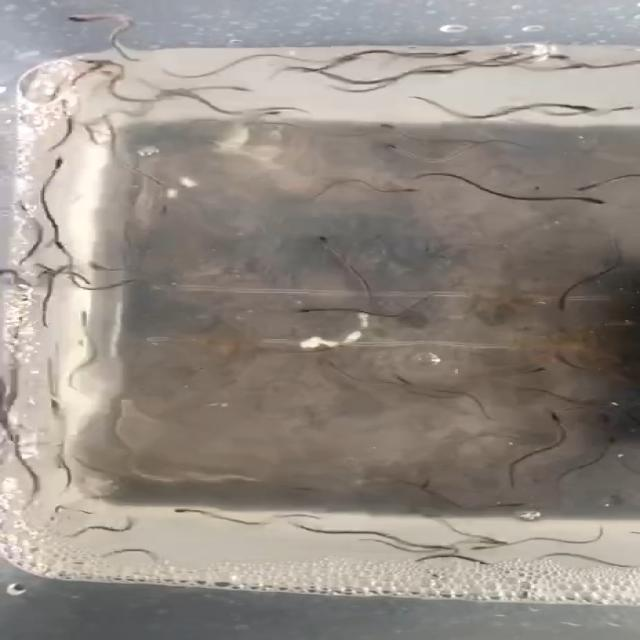inactive_glass_eel: (63, 55, 118, 71), (64, 9, 111, 27), (316, 51, 364, 68), (571, 177, 617, 193), (71, 61, 102, 83), (560, 99, 604, 114), (441, 44, 474, 63), (418, 537, 456, 553), (607, 101, 640, 119), (419, 62, 460, 76), (576, 192, 616, 206), (317, 234, 343, 255), (470, 538, 504, 554), (18, 198, 40, 221), (374, 120, 410, 134), (380, 140, 411, 156), (154, 89, 190, 102), (46, 154, 68, 175), (48, 240, 76, 256), (210, 85, 254, 95), (168, 506, 209, 516), (293, 304, 326, 316), (496, 500, 527, 512), (482, 535, 514, 546), (245, 110, 284, 119), (551, 296, 573, 311), (72, 311, 94, 326), (548, 410, 567, 427), (518, 366, 550, 376), (388, 187, 418, 197)
